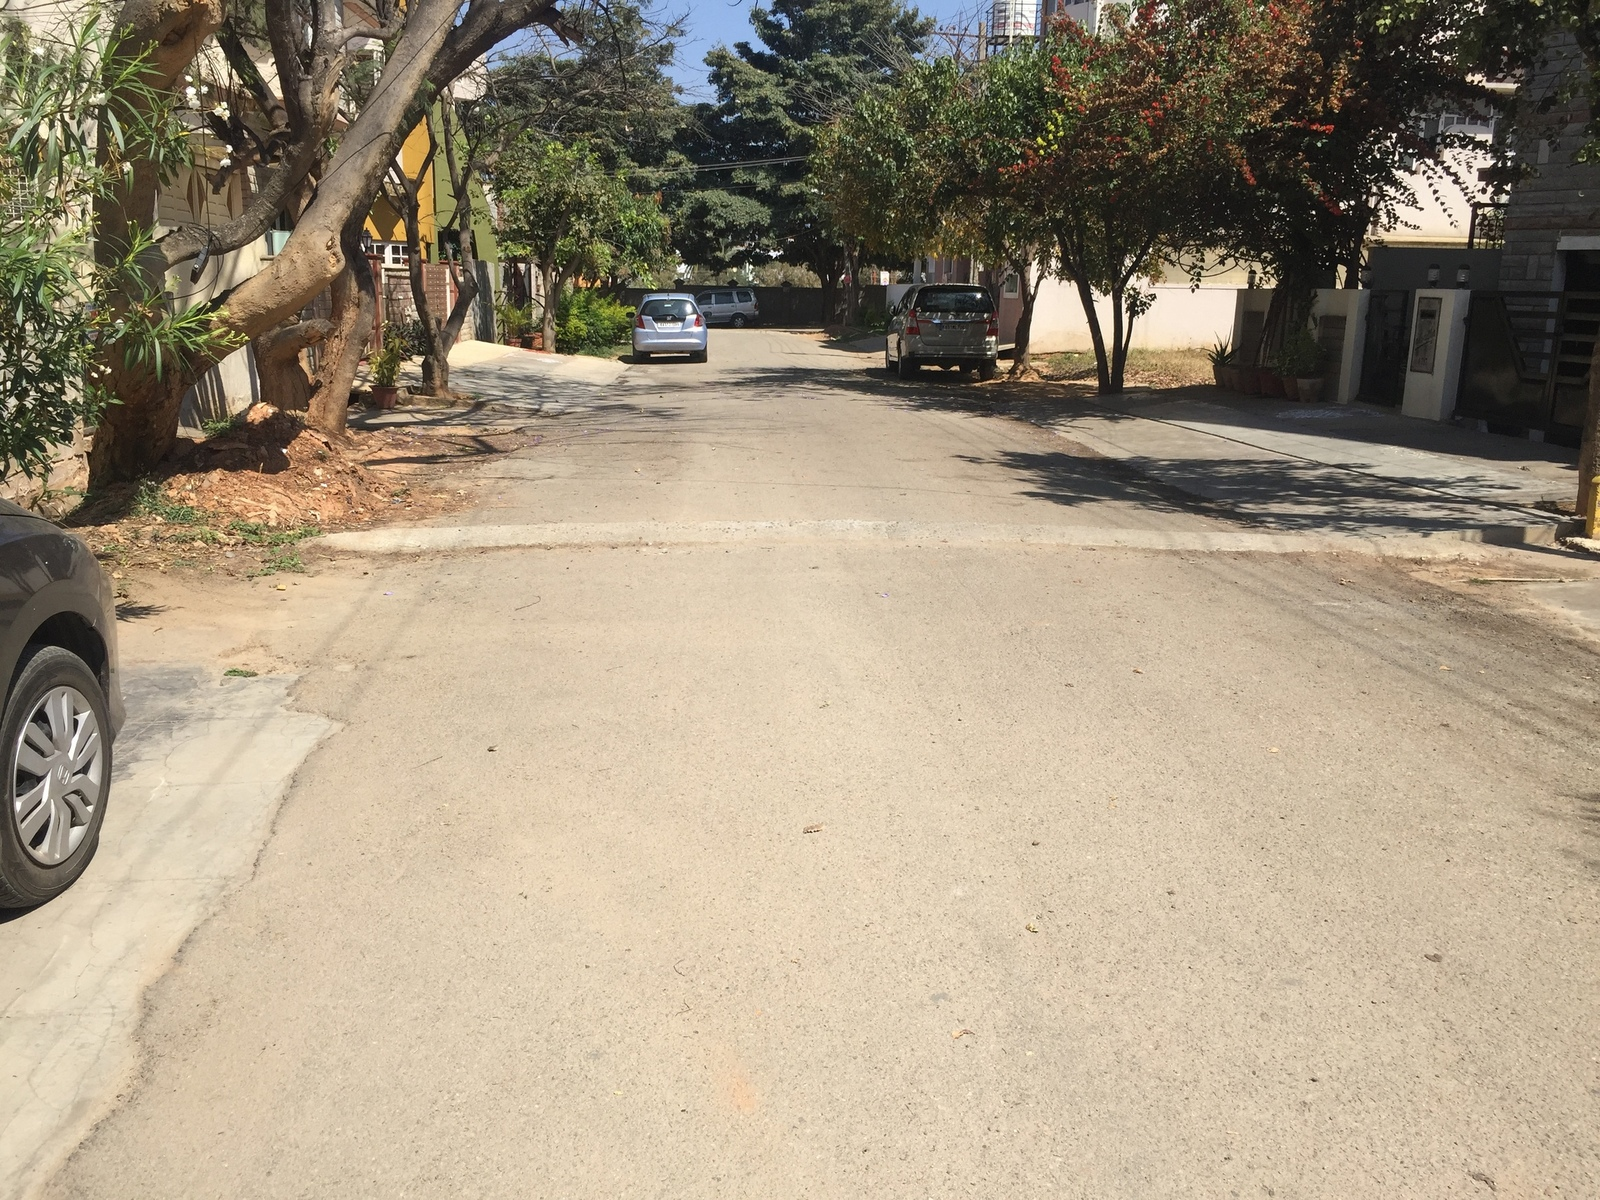bump: (312, 516, 1580, 580)
